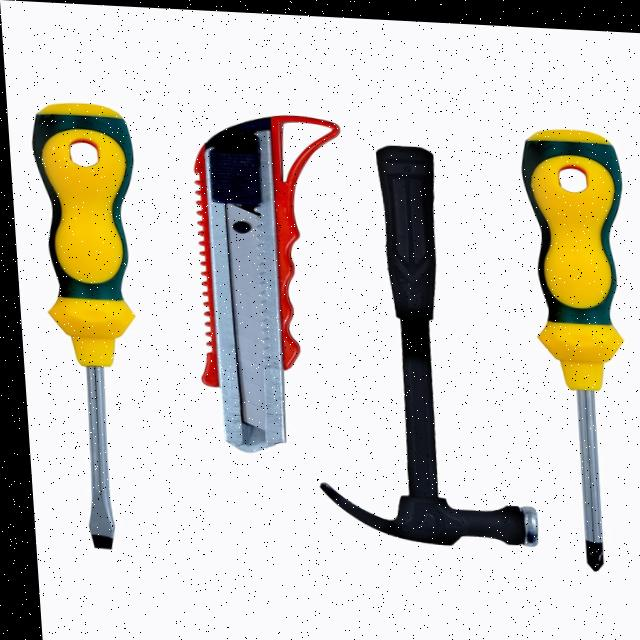Screwdriver: (30, 102, 130, 547), (520, 124, 620, 565)
